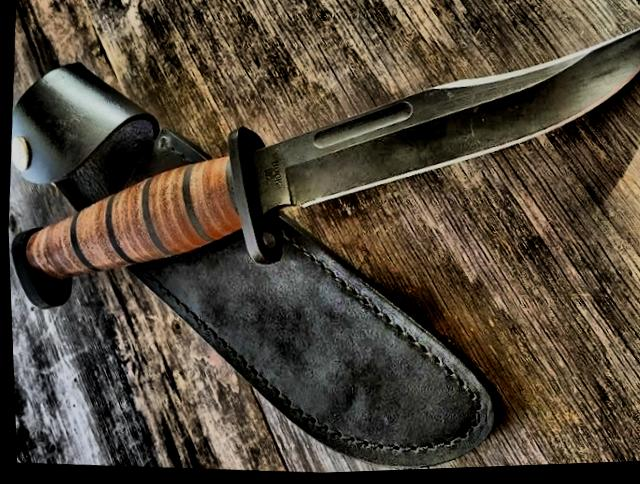knife: (264, 0, 640, 236)
